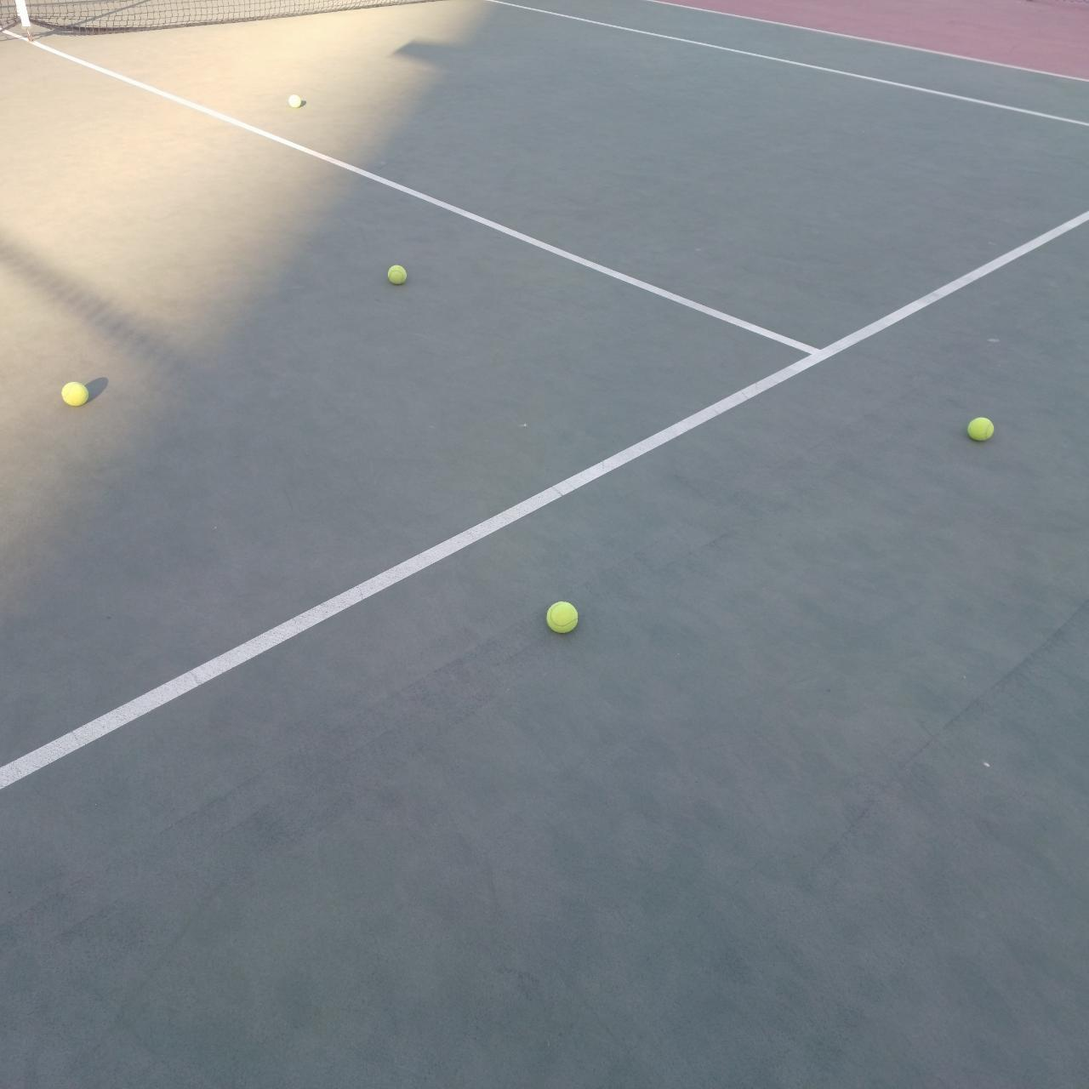tennis-ball: (545, 598, 580, 634), (966, 414, 996, 442), (61, 379, 90, 407), (387, 262, 409, 285), (288, 94, 302, 108)
